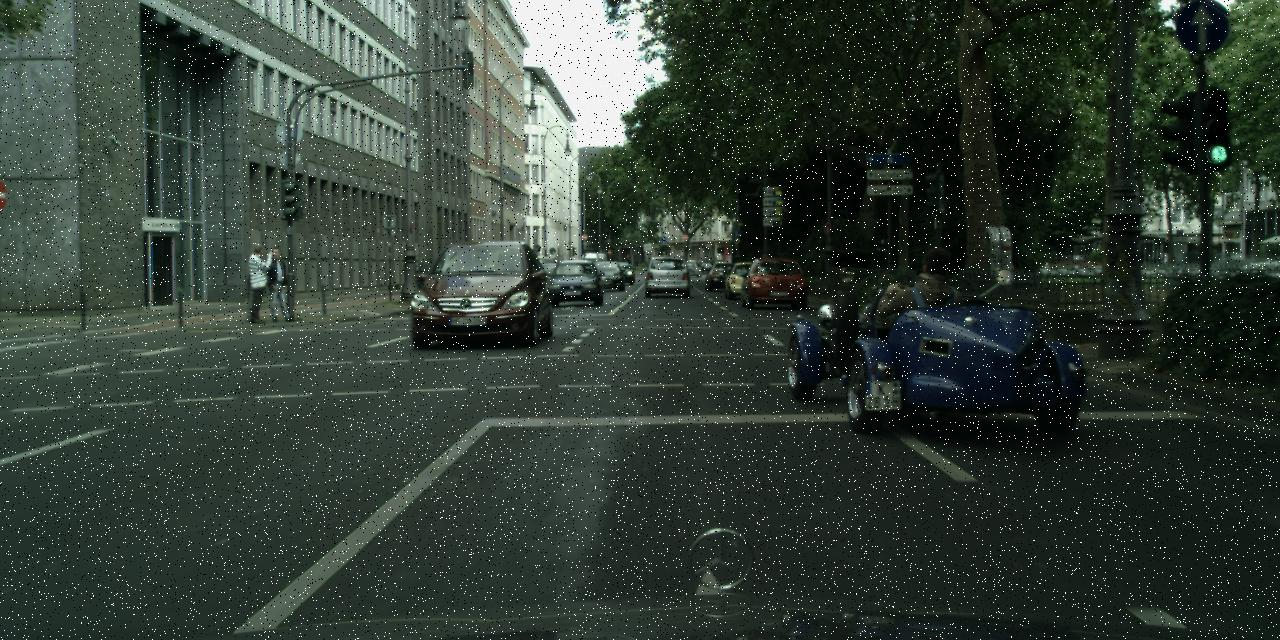ped: (239, 242, 272, 322), (264, 246, 294, 321)
